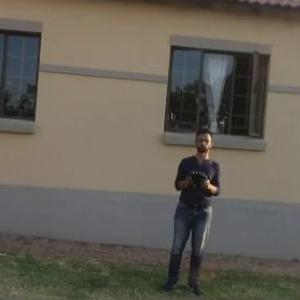follow: (160, 124, 222, 298)
